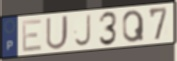3: (98, 10, 118, 47)
7: (147, 7, 169, 42)
E: (21, 17, 43, 54)
J: (73, 13, 92, 48)
Q: (121, 9, 146, 44)
U: (45, 14, 70, 51)
